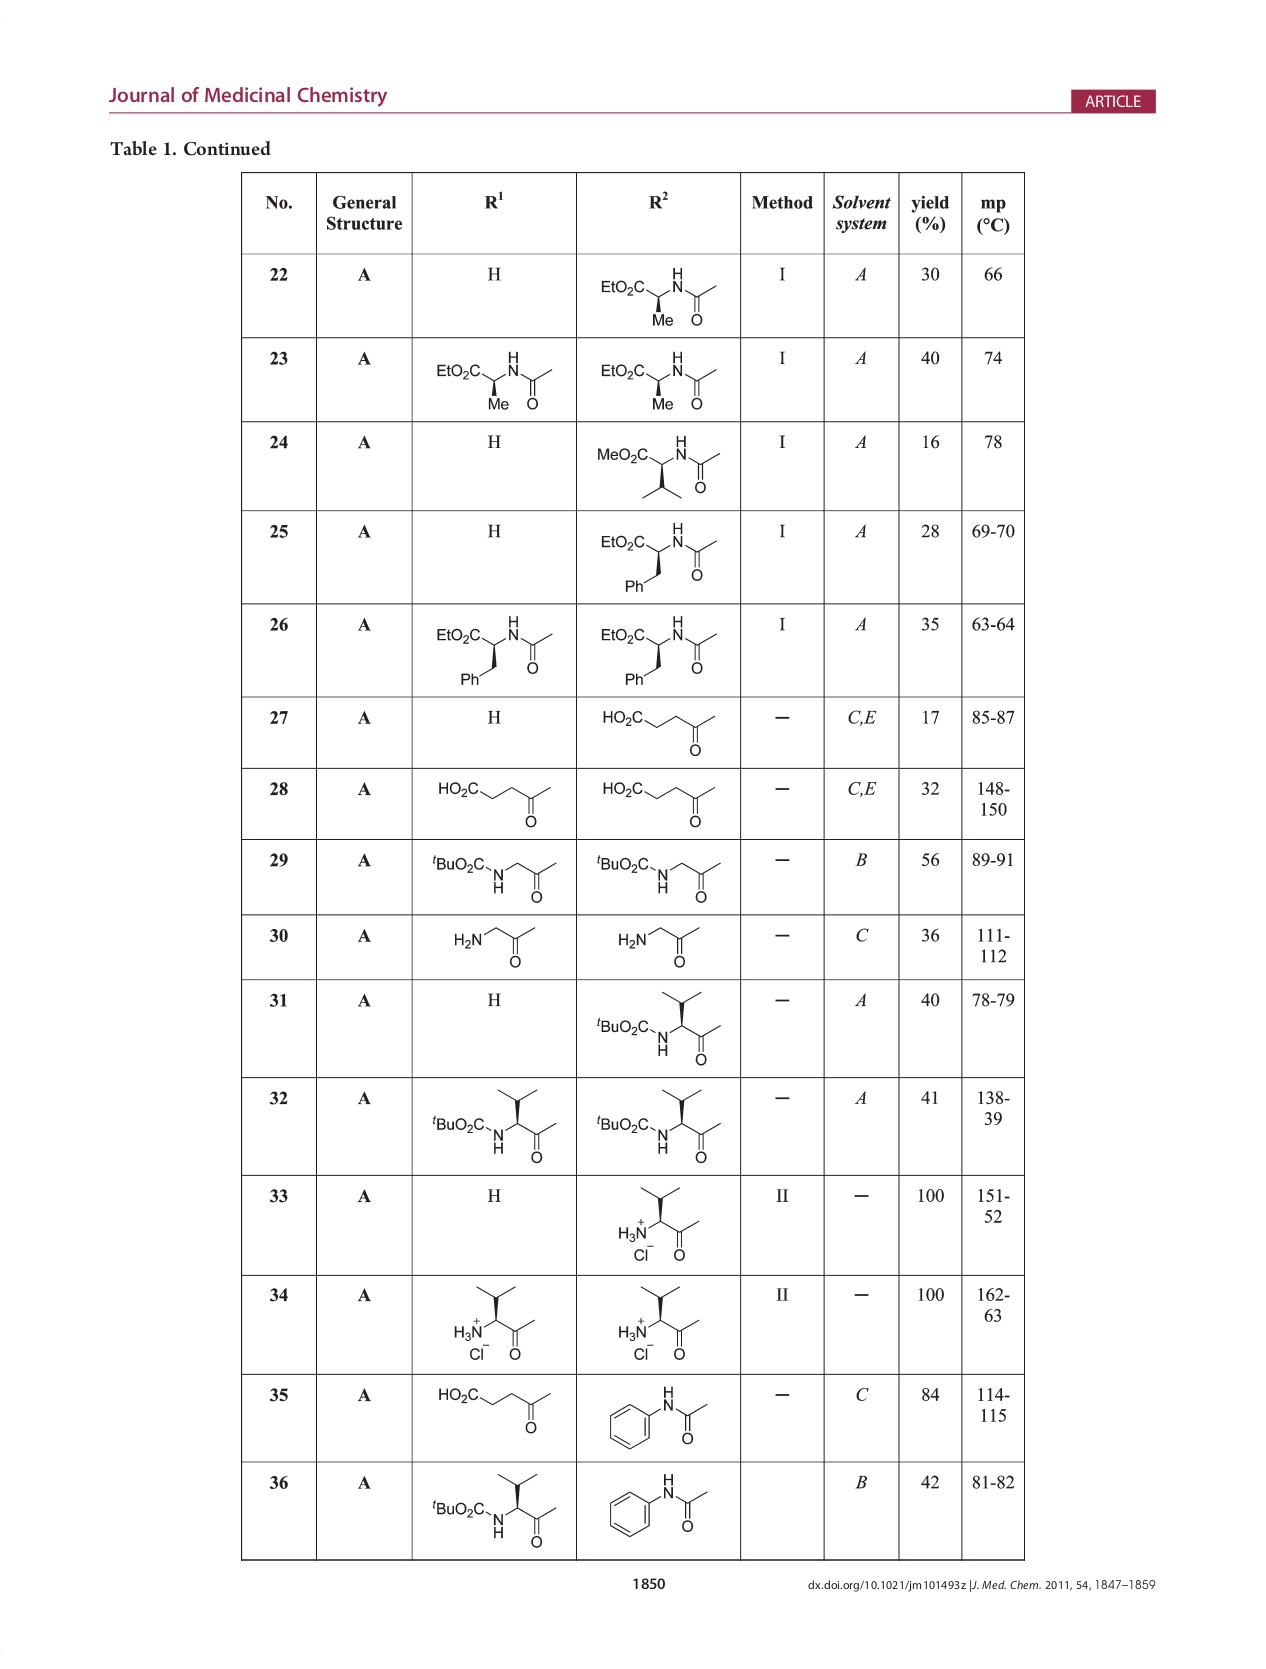exist_molecular: (430, 1466, 561, 1551), (426, 1087, 560, 1166), (593, 1087, 722, 1164), (594, 989, 722, 1067), (590, 612, 721, 686), (424, 346, 561, 414), (434, 614, 559, 688), (594, 432, 725, 501), (598, 520, 721, 593), (596, 261, 719, 332), (443, 1281, 541, 1366), (597, 347, 719, 414), (592, 848, 723, 908), (422, 850, 560, 906), (617, 1181, 705, 1266), (604, 1470, 710, 1539), (431, 1380, 553, 1438), (614, 1283, 703, 1362), (428, 777, 556, 831), (605, 1383, 709, 1450), (597, 774, 717, 830), (593, 705, 719, 755), (613, 922, 702, 972), (444, 922, 540, 968)
